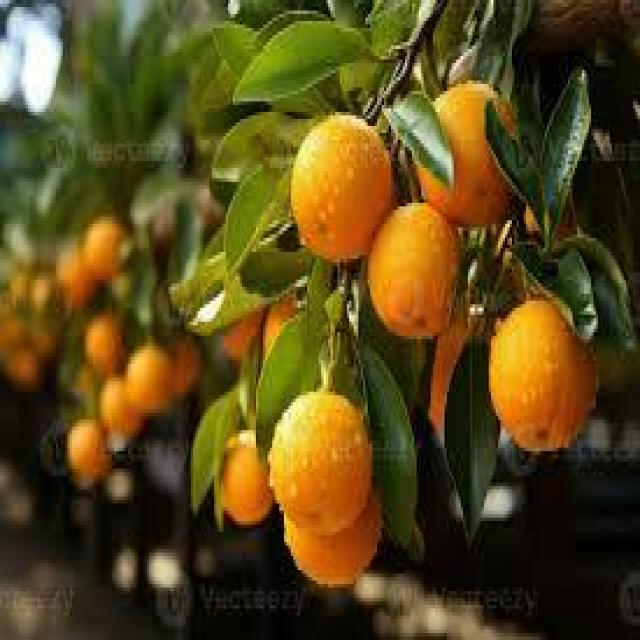fruit: (487, 297, 596, 451), (289, 112, 394, 259), (367, 202, 458, 338), (286, 498, 380, 584), (426, 313, 473, 435), (218, 431, 274, 524), (126, 343, 174, 411), (83, 215, 127, 280), (523, 192, 574, 243), (487, 249, 527, 314), (263, 295, 300, 363), (67, 420, 108, 481), (85, 313, 125, 372), (100, 377, 138, 434), (58, 247, 94, 307), (221, 309, 263, 360), (168, 338, 202, 393), (192, 185, 225, 234), (6, 343, 43, 386), (8, 269, 37, 313), (29, 274, 56, 317), (0, 311, 26, 350), (31, 322, 58, 358), (494, 218, 516, 261), (72, 363, 98, 397), (522, 202, 544, 237)
